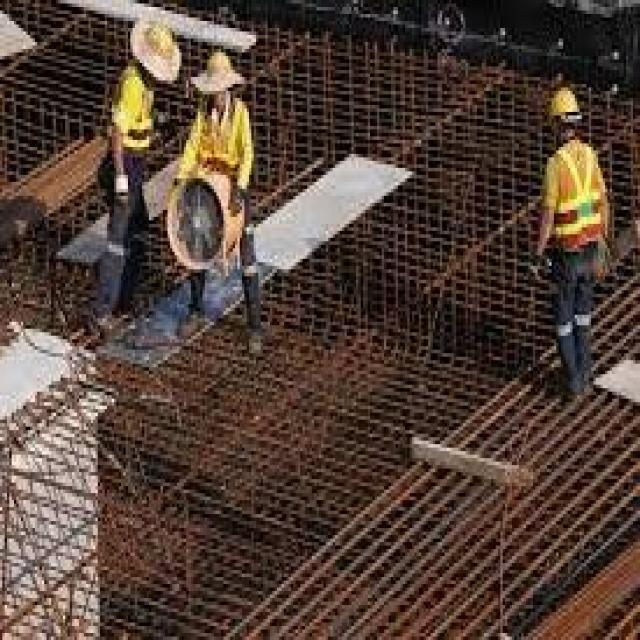Reflective-Jacket: (538, 136, 612, 273), (178, 101, 256, 193), (97, 63, 156, 152)
Safety-Helmet: (544, 80, 586, 126)
